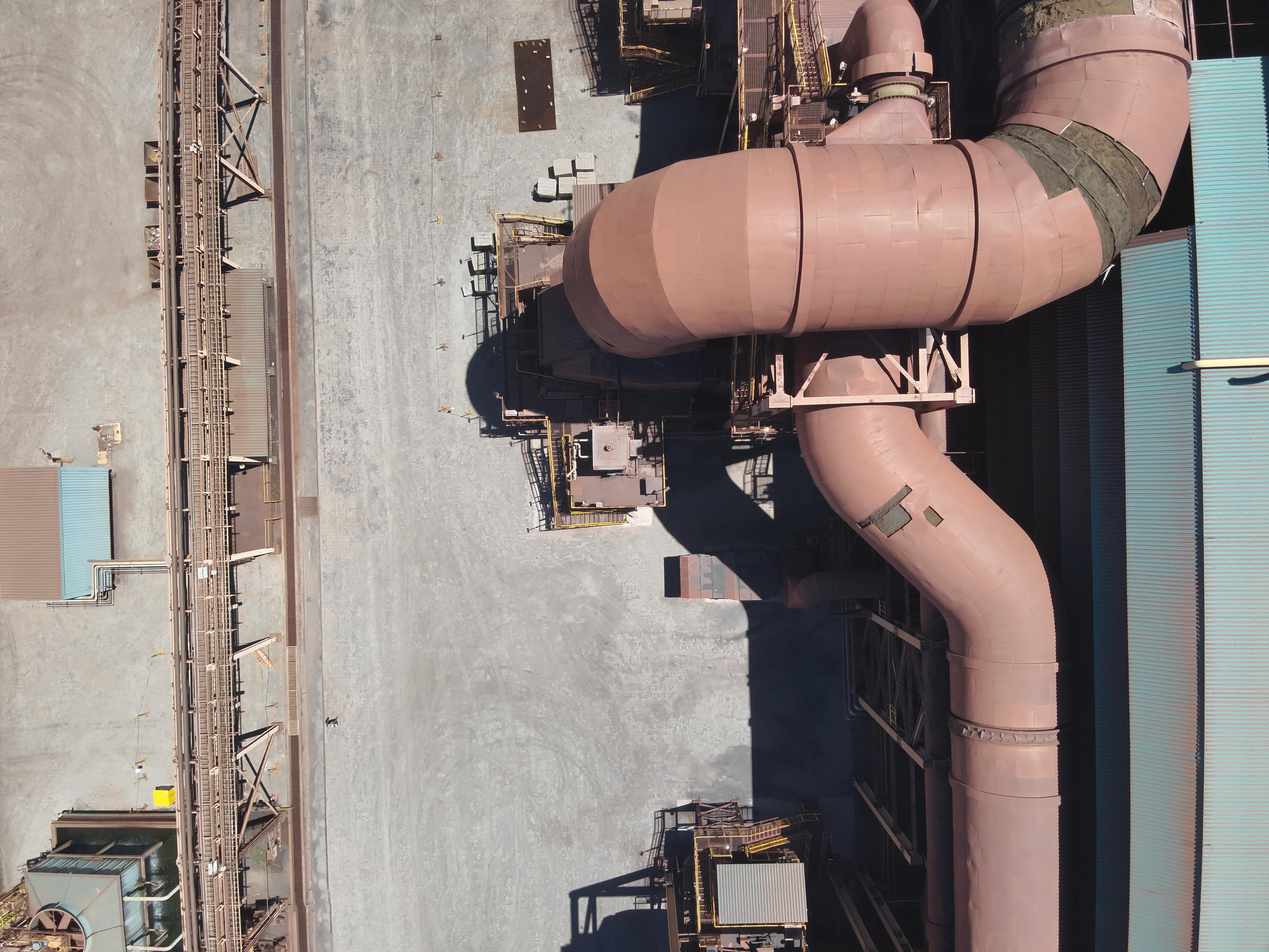Failures: (993, 121, 1162, 254), (990, 1, 1138, 42), (850, 487, 919, 535), (923, 505, 945, 528)
